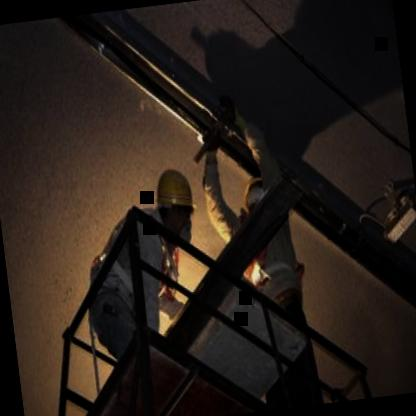helmet: (149, 162, 200, 245)
